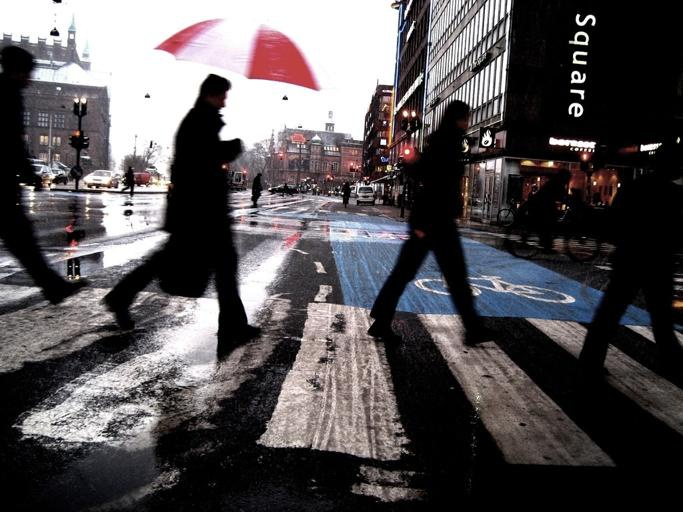non-vehicle: (503, 203, 600, 262), (497, 197, 520, 226)
